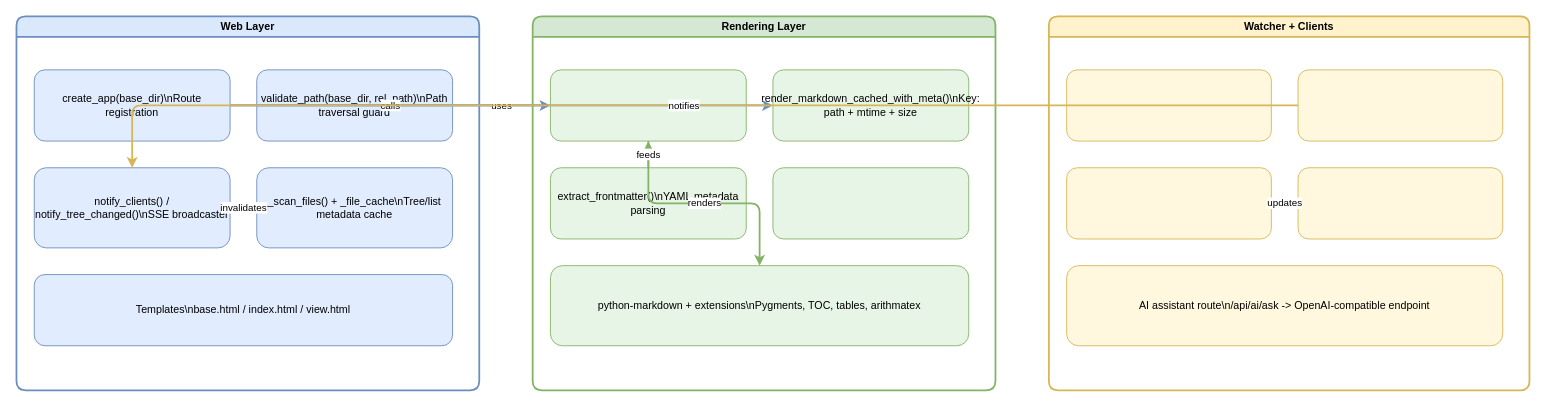
This 1545x406 diagram has some shape labels left out. Here are the shapes that lost their labels. From the top down, the centre of each, then its label:
At [648,105]: "render_markdown()\nrender_markdown_with_meta()".
At [1168,105]: "start_watcher() / stop_watcher()".
At [1400,105]: "MarkdownFileHandler\n(debounced .md events)".
At [870,203]: "_preprocess_mermaid()\nMermaid fence transform".
At [1168,203]: "/events (SSE)\nQueue per subscriber".
At [1400,203]: "Frontend JS\neditor.js, live-reload.js, file-operations.js".
